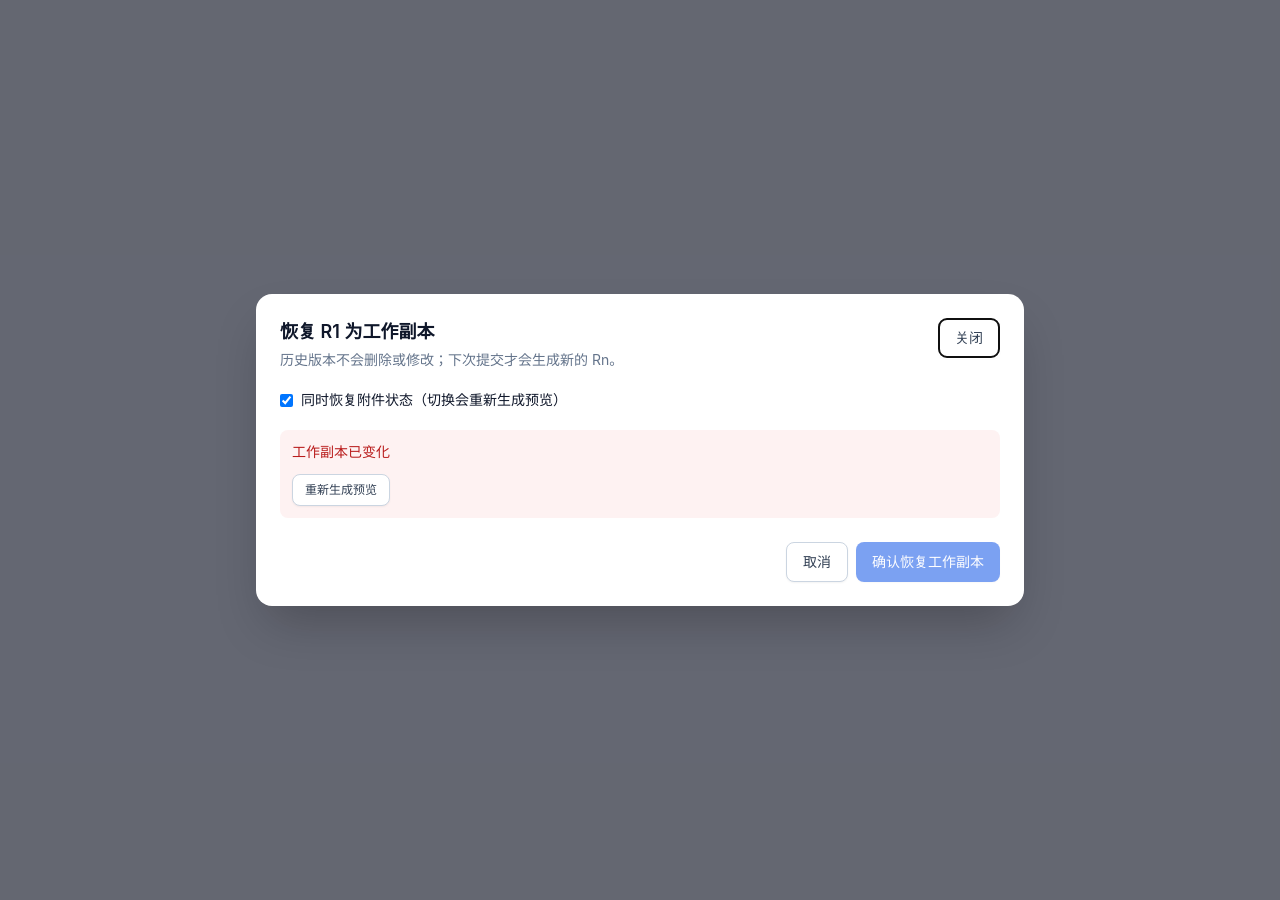
Test: RestorePreviewDialog › keeps the dialog open and offers a fresh preview when stale
What coordinates should you click on to do the following:
click the button "重新生成预览"
I would click on:
 (341, 490)
Its box is x1=292 y1=474 x2=390 y2=506.
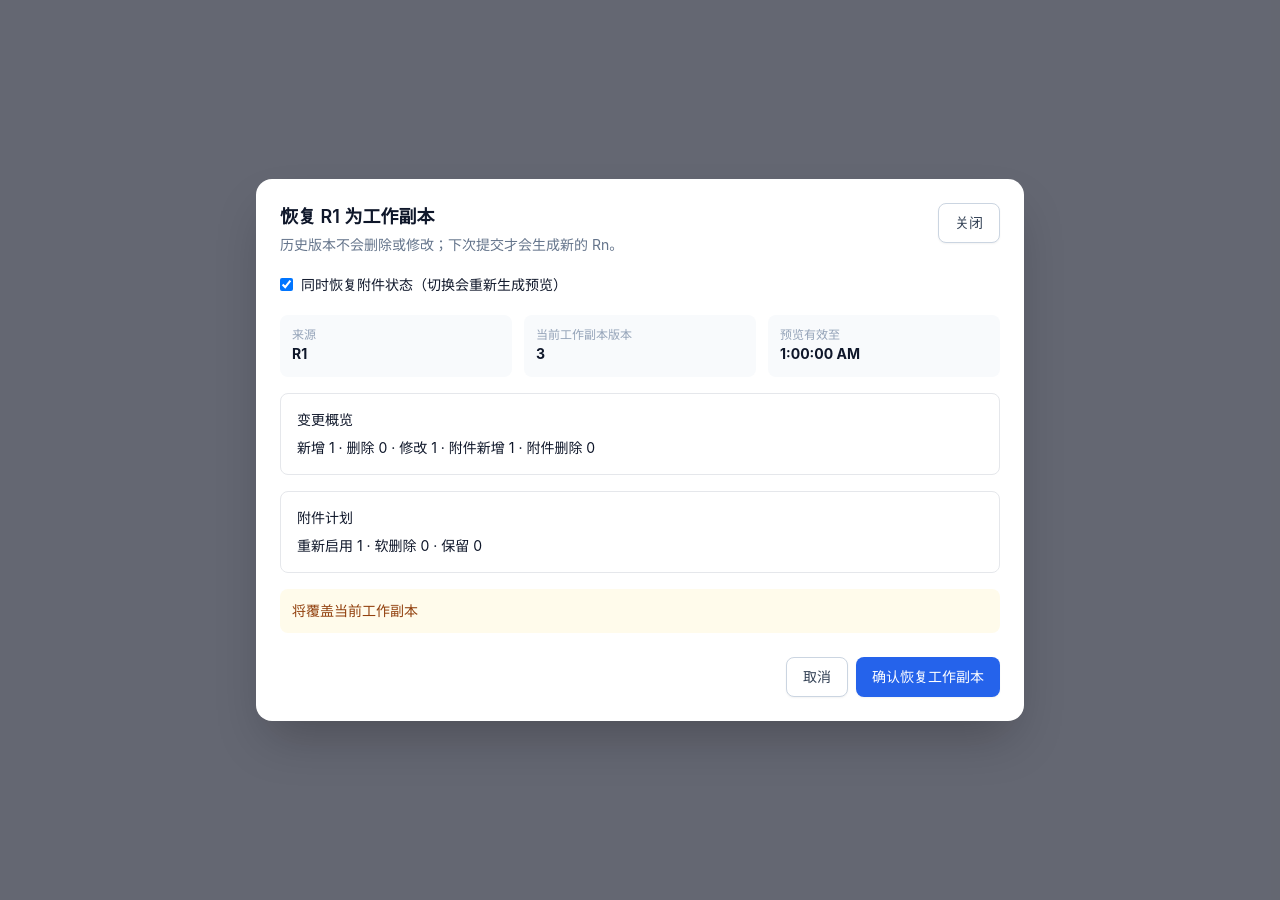
Expected: the text "将覆盖当前工作副本" is shown, x1=280 y1=589 x2=1000 y2=633
